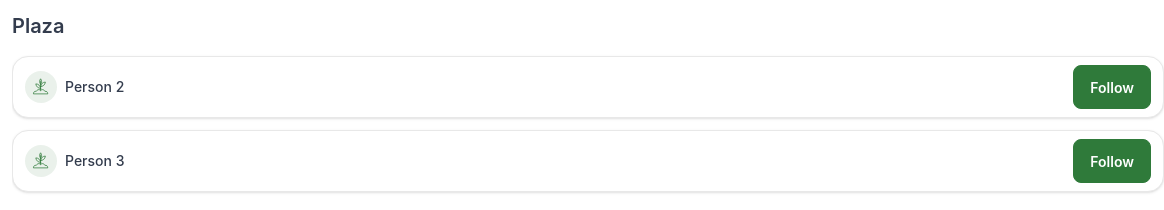
PlazaPage › follows a candidate and marks them as followed
This screenshot has width=1164, height=210.
Step 1. Click the button with aria-label "Follow Person 2" → (1112, 87), box [1073,65,1151,109]
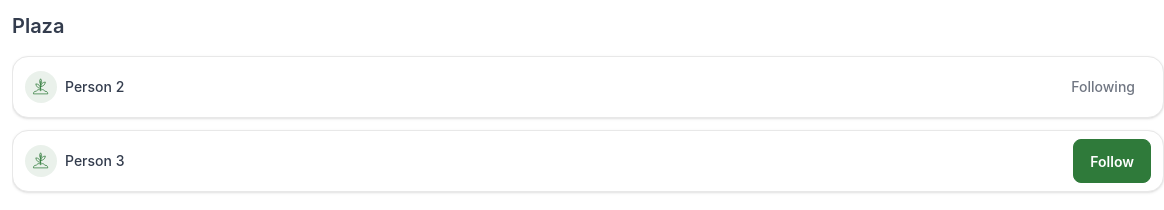
Check: the button with aria-label "Follow Person 3" is shown, box [1073,139,1151,183]
Check: the text "Following" is shown, box [1071,78,1135,95]
